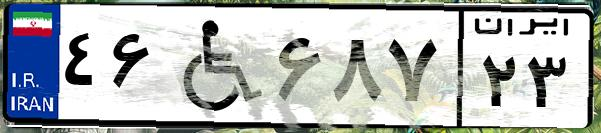2: (475, 38, 525, 113)
3: (525, 38, 570, 115)
4: (57, 26, 110, 100)
6: (270, 28, 330, 110), (110, 28, 158, 98)
7: (385, 28, 445, 110)
8: (330, 28, 385, 110)
ژ (معلولین و جانبازان): (158, 12, 270, 120)
